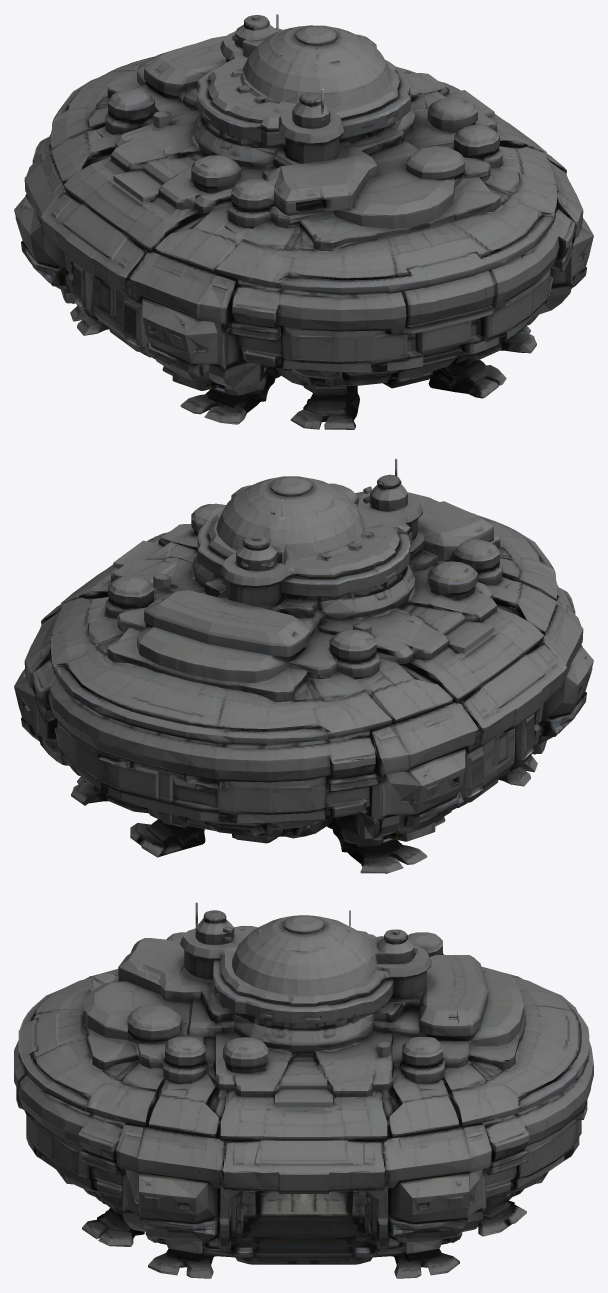
Rendered from MotherShip.glb.
3 views of the same model, one above another, from view 1: azimuth 30°, elevation 25°; view 2: azimuth 150°, elevation 25°; view 3: azimuth 270°, elevation 25° (orthographic). The views are drawn at different scales.
Parts seen in each view (by area): view 1: tripo_node_6b3a267f-ddef-44c1-8a45-d437eb55ec1f; view 2: tripo_node_6b3a267f-ddef-44c1-8a45-d437eb55ec1f; view 3: tripo_node_6b3a267f-ddef-44c1-8a45-d437eb55ec1f.
Part boxes in pixels (x1,y1,x2,y2): tripo_node_6b3a267f-ddef-44c1-8a45-d437eb55ec1f: [14, 14, 593, 429]; tripo_node_6b3a267f-ddef-44c1-8a45-d437eb55ec1f: [14, 458, 593, 873]; tripo_node_6b3a267f-ddef-44c1-8a45-d437eb55ec1f: [14, 902, 593, 1278].
Size of the model in its own units: 0.865 by 0.546 by 1.
1 material, 1 textured.
